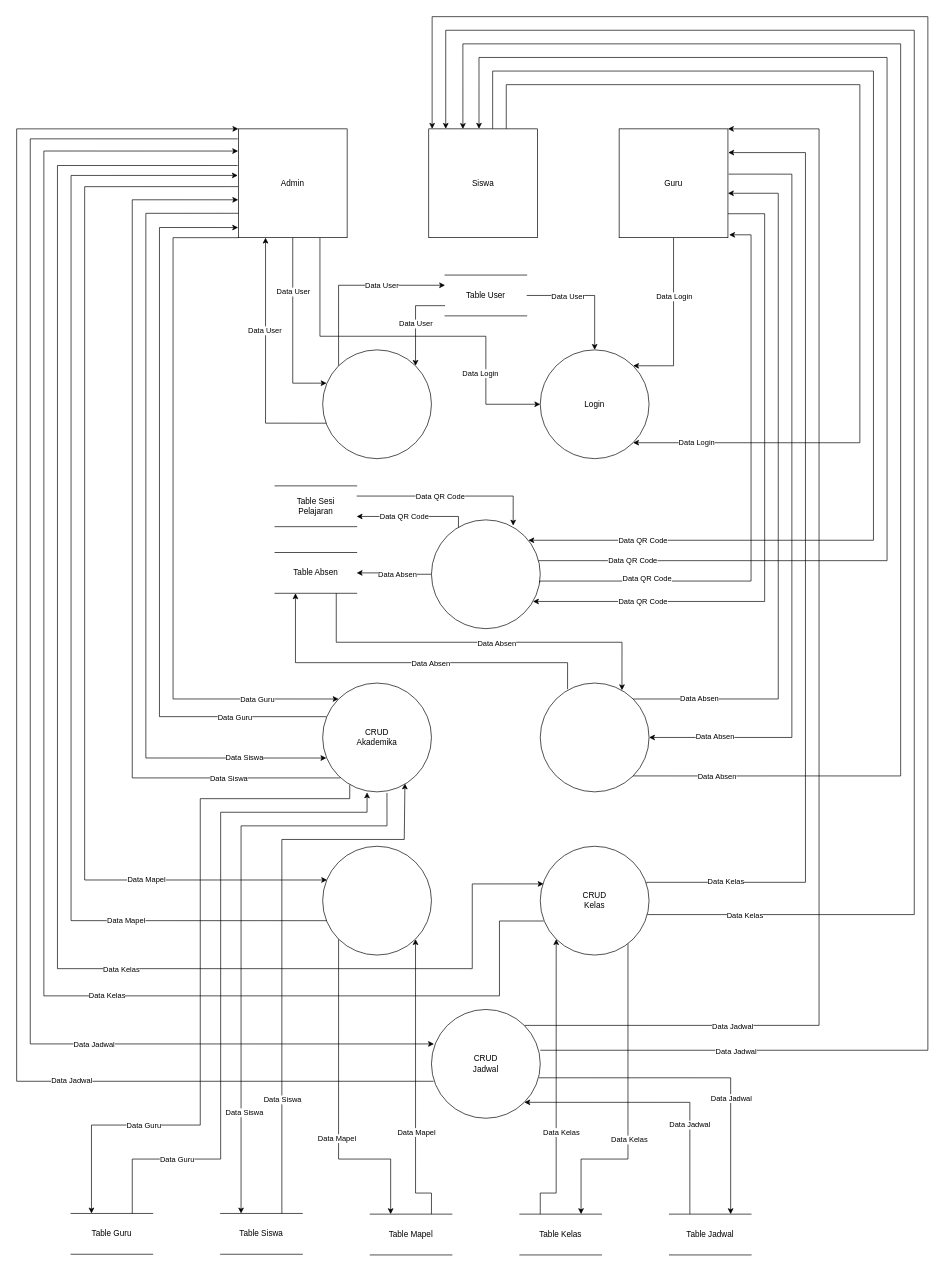
The diagram is 945 pixels wide and 1267 high, and some of its shapes have lost their labels. Here are the shapes that lost their labels. From the top down, the centre of each, then its label:
pixel 376 404: CRUD User
pixel 485 574: QR Code Absen
pixel 594 737: CRUD Absen
pixel 376 900: CRUD Mapel
